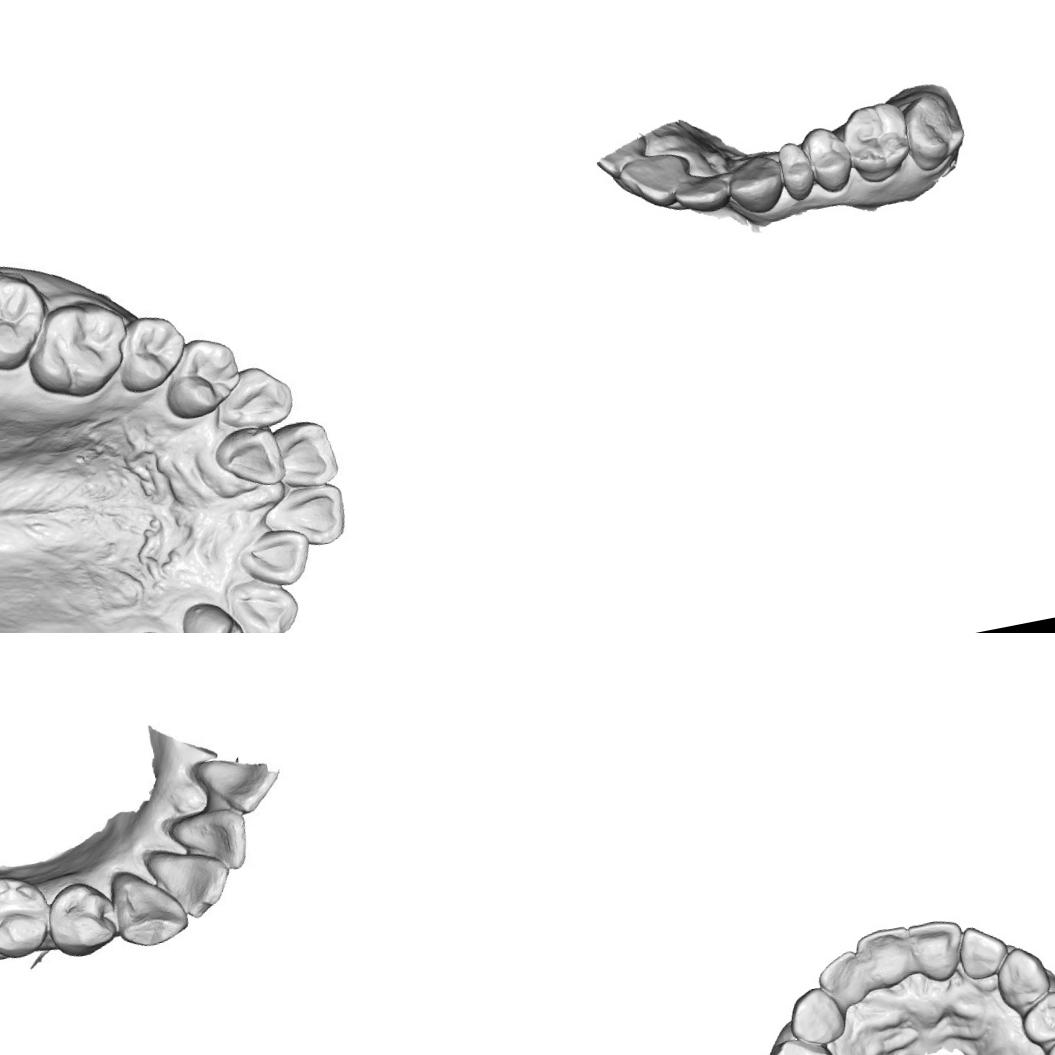canine: (101, 853, 196, 956), (219, 356, 297, 432), (988, 939, 1055, 1014), (225, 568, 302, 633), (720, 150, 789, 220), (781, 981, 848, 1050)
incisor: (139, 831, 236, 920), (162, 799, 258, 883), (184, 740, 280, 821), (263, 479, 346, 549), (614, 146, 697, 214), (215, 420, 290, 492), (904, 910, 972, 989), (237, 520, 312, 591), (239, 524, 312, 591), (268, 418, 337, 488), (852, 920, 920, 988), (952, 917, 1014, 983), (812, 945, 876, 1005), (670, 168, 733, 220)
molar: (23, 290, 134, 400), (835, 97, 916, 187), (898, 86, 972, 174), (0, 258, 46, 369)
premolar: (36, 873, 125, 964), (158, 325, 241, 419), (108, 310, 190, 400), (0, 870, 54, 965), (798, 121, 858, 198), (772, 138, 818, 205), (177, 595, 252, 633), (1014, 984, 1055, 1048), (764, 1029, 838, 1055)
